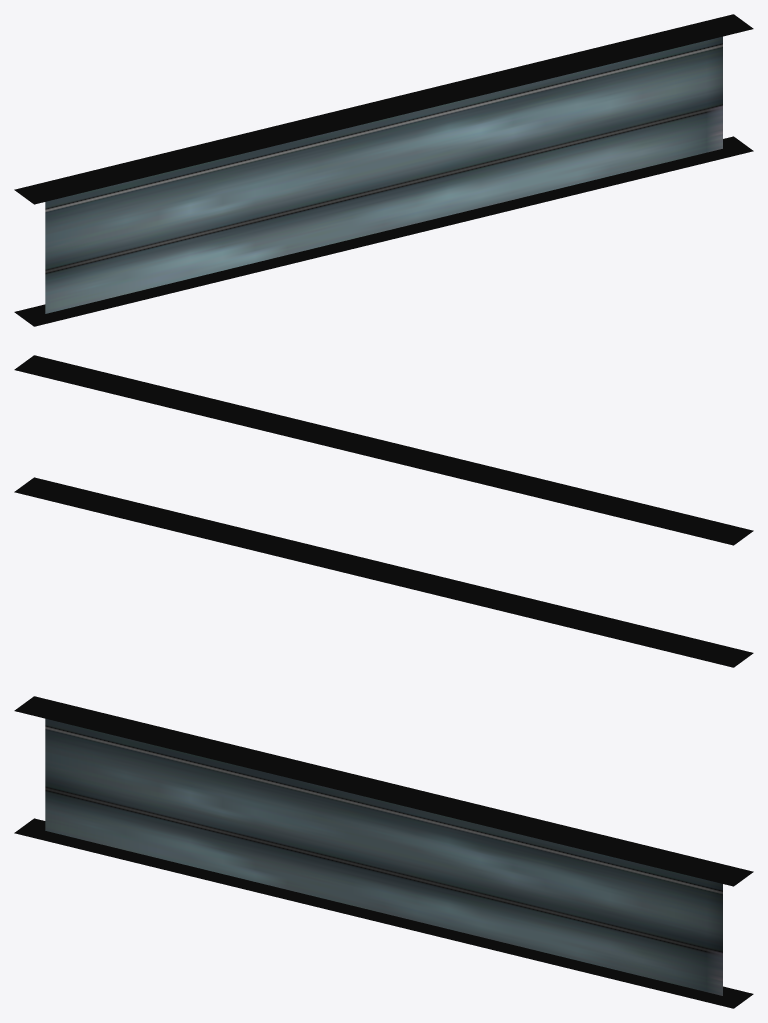
The model's file is Geländer2 [Minstry]_2498.glb.
The picture shows the model from 3 angles, top to bottom: view 1: azimuth 30°, elevation 25°; view 2: azimuth 150°, elevation 25°; view 3: azimuth 330°, elevation 25°; orthographic projection.
Visible parts, largest first — view 1: pPlaneShape223, pPlaneShape224, pPlaneShape225; view 2: pPlaneShape224, pPlaneShape225; view 3: pPlaneShape223, pPlaneShape224, pPlaneShape225.
Part boxes in pixels (<box>): pPlaneShape223: <box>45,36,722,313</box>; pPlaneShape224: <box>14,14,753,204</box>; pPlaneShape225: <box>14,136,753,326</box>; pPlaneShape224: <box>14,355,753,545</box>; pPlaneShape225: <box>14,477,753,667</box>; pPlaneShape223: <box>45,718,722,995</box>; pPlaneShape224: <box>14,696,753,886</box>; pPlaneShape225: <box>14,818,753,1008</box>.
Bounding box in the file's own units: 0.5 × 0.0811 × 0.0243.
3 materials, 1 textured.
